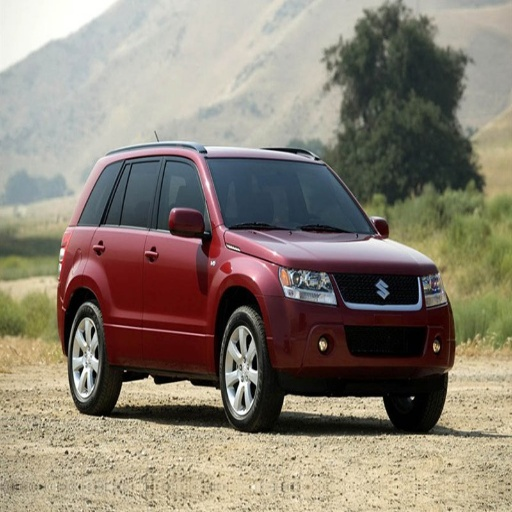front_bumper: (267, 272, 454, 381)
front_right_door: (144, 153, 213, 363)
front_right_light: (277, 268, 336, 305)
hood: (231, 232, 437, 274)
